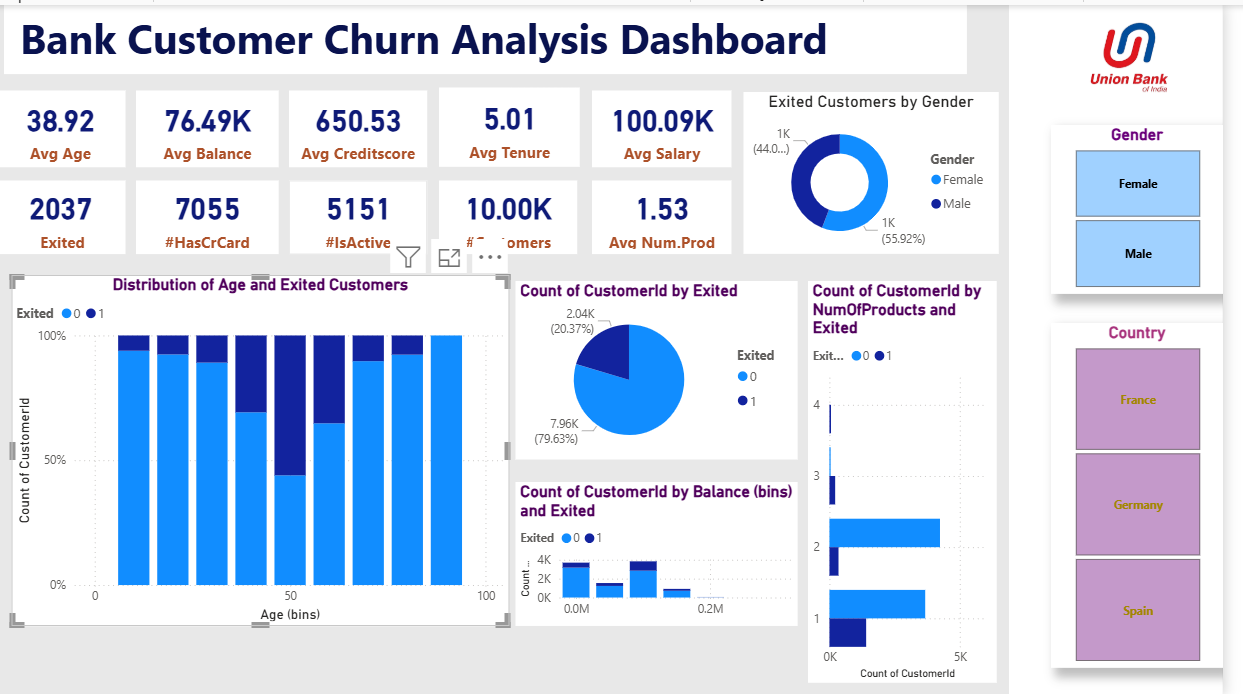

What the dashboard file says about the page in this screenshot:
{"tool":"powerbi","page":{"name":"Page 1","canvas":[1280,720],"ordinal":0},"visuals":[{"type":"image","box":[1056.4,0,190.9,124.7],"z":0},{"type":"textbox","box":[9.4,0,1003.5,71.8],"z":1000},{"type":"shape","box":[1056.4,0,223,720],"z":2000},{"type":"image","box":[1099.9,0,166.3,109.6],"z":3000},{"type":"card","fields":{"Values":["Avg(Churn_Modelling.Age)"]},"box":[0,89.1,136,79.7],"z":4000},{"type":"card","fields":{"Values":["Avg(Churn_Modelling.Balance)"]},"box":[146.9,89.1,148.5,79.7],"z":5000},{"type":"card","fields":{"Values":["Avg(Churn_Modelling.CreditScore)"]},"box":[306.3,89.1,143.8,79.7],"z":6000},{"type":"card","fields":{"Values":["CountNonNull(Churn_Modelling.CustomerId)"]},"box":[462.6,182.9,143.8,76.6],"z":7000},{"type":"card","fields":{"Values":["Avg(Churn_Modelling.EstimatedSalary)"]},"box":[622.1,89.1,145.4,79.7],"z":8000},{"type":"card","fields":{"Values":["Sum(Churn_Modelling.Exited)"]},"box":[0,182.9,136,76.6],"z":8001},{"type":"card","fields":{"Values":["Sum(Churn_Modelling.HasCrCard)"]},"box":[146.9,182.9,148.5,76.6],"z":8002},{"type":"card","fields":{"Values":["Sum(Churn_Modelling.IsActiveMember)"]},"box":[306.3,182.9,143.8,76.6],"z":8003},{"type":"card","fields":{"Values":["Avg(Churn_Modelling.NumOfProducts)"]},"box":[622.1,182.9,145.4,76.6],"z":8004},{"type":"card","fields":{"Values":["Avg(Churn_Modelling.Tenure)"]},"box":[462.6,86,146.9,82.8],"z":8005},{"type":"slicer","title":"Gender","fields":{"Values":["Churn_Modelling.Gender"]},"box":[1099.9,124.7,179.5,175.7],"z":8006},{"type":"slicer","title":"Country","fields":{"Values":["Churn_Modelling.Geography"]},"box":[1099.9,330.7,179.5,359.1],"z":8012},{"type":"donutChart","title":"Exited Customers by Gender","fields":{"Category":["Churn_Modelling.Gender"],"Y":["Sum(Churn_Modelling.Exited)"]},"box":[779.9,90.7,265.7,168.8],"z":8013},{"type":"hundredPercentStackedColumnChart","title":"Distribution of Age and Exited Customers","fields":{"Category":["Churn_Modelling.Age (bins)"],"Y":["CountNonNull(Churn_Modelling.CustomerId)"],"Series":["Churn_Modelling.Exited"]},"box":[17.2,281.3,518.9,365.7],"z":8014},{"type":"clusteredBarChart","fields":{"Category":["Churn_Modelling.NumOfProducts"],"Y":["CountNonNull(Churn_Modelling.CustomerId)"],"Series":["Churn_Modelling.Exited"]},"box":[847.1,287.6,196.9,418.9],"z":8015},{"type":"pieChart","fields":{"Category":["Churn_Modelling.Exited"],"Y":["CountNonNull(Churn_Modelling.CustomerId)"]},"box":[542.4,287.6,293.8,186],"z":8016},{"type":"columnChart","fields":{"Category":["Churn_Modelling.Balance (bins)"],"Y":["CountNonNull(Churn_Modelling.CustomerId)"],"Series":["Churn_Modelling.Exited"]},"box":[542.4,497,293.8,150],"z":8017}]}

Visuals, with their boxes in screenshot pixels (x1, y1, x2, y2), scaled from the page's 1280x720 canvas onto the 1243x694 screenshot:
image: Rect(1026, 0, 1211, 120)
textbox: Rect(9, 0, 984, 69)
shape: Rect(1026, 0, 1242, 693)
image: Rect(1068, 0, 1230, 106)
card - Avg(Churn_Modelling.Age): Rect(0, 86, 132, 163)
card - Avg(Churn_Modelling.Balance): Rect(143, 86, 287, 163)
card - Avg(Churn_Modelling.CreditScore): Rect(297, 86, 437, 163)
card - CountNonNull(Churn_Modelling.CustomerId): Rect(449, 176, 589, 250)
card - Avg(Churn_Modelling.EstimatedSalary): Rect(604, 86, 745, 163)
card - Sum(Churn_Modelling.Exited): Rect(0, 176, 132, 250)
card - Sum(Churn_Modelling.HasCrCard): Rect(143, 176, 287, 250)
card - Sum(Churn_Modelling.IsActiveMember): Rect(297, 176, 437, 250)
card - Avg(Churn_Modelling.NumOfProducts): Rect(604, 176, 745, 250)
card - Avg(Churn_Modelling.Tenure): Rect(449, 83, 592, 163)
"Gender" slicer: Rect(1068, 120, 1242, 290)
"Country" slicer: Rect(1068, 319, 1242, 665)
"Exited Customers by Gender" donutChart: Rect(757, 87, 1015, 250)
"Distribution of Age and Exited Customers" hundredPercentStackedColumnChart: Rect(17, 271, 521, 624)
clusteredBarChart - Churn_Modelling.NumOfProducts x CountNonNull(Churn_Modelling.CustomerId): Rect(823, 277, 1014, 681)
pieChart - Churn_Modelling.Exited x CountNonNull(Churn_Modelling.CustomerId): Rect(527, 277, 812, 456)
columnChart - Churn_Modelling.Balance (bins) x CountNonNull(Churn_Modelling.CustomerId): Rect(527, 479, 812, 624)
